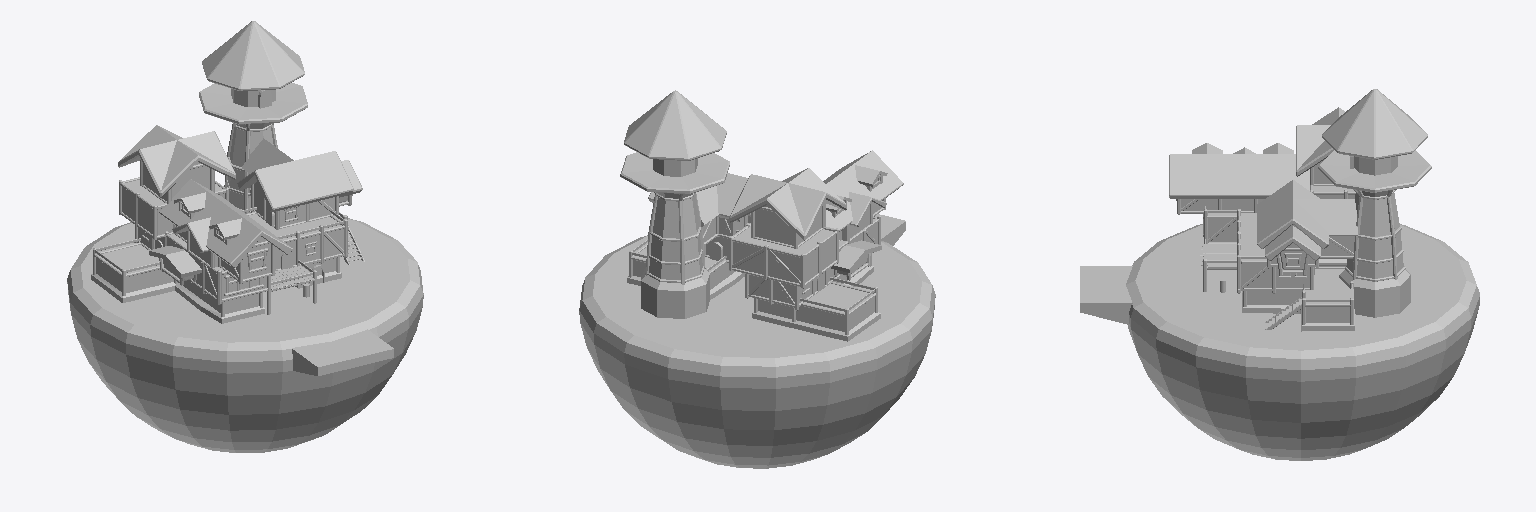
File: Building 3 Export.obj
The picture shows the model from 3 angles: view 1: azimuth 30°, elevation 25°; view 2: azimuth 150°, elevation 25°; view 3: azimuth 270°, elevation 25°; orthographic projection.
Visible parts, largest first — view 1: Island, polySurface1 pCube3, PointRoof, Silo, Roof1, Roof15, Roof9, Dock, pCube3 polySurface3 polySurface2, pCube3 polySurface2 polySurface4, pCube3 polySurface2 polySurface5, Roof6 (+2 smaller); view 2: Island, Silo, polySurface1 pCube3, PointRoof, Roof9, pCube3 polySurface2 polySurface4, Roof15, pCube3 polySurface3 polySurface2, pCube3 polySurface2 polySurface7, Roof1, Roof6, Roof8 (+1 smaller); view 3: Island, Silo, Roof15, PointRoof, polySurface1 pCube3, Roof1, Dock, pCube3 polySurface3 polySurface2, Roof8, Roof9, pCube3 polySurface2 polySurface4, Roof2 (+1 smaller).
Boxes of the visible parts, <box> form: Island: <box>67,216,423,452</box>; polySurface1 pCube3: <box>91,216,349,323</box>; PointRoof: <box>202,21,304,90</box>; Silo: <box>199,83,307,209</box>; Roof1: <box>237,151,353,211</box>; Roof15: <box>159,179,292,267</box>; Roof9: <box>118,125,235,197</box>; Dock: <box>292,329,393,375</box>; pCube3 polySurface3 polySurface2: <box>138,214,343,298</box>; pCube3 polySurface2 polySurface4: <box>122,180,270,278</box>; pCube3 polySurface2 polySurface5: <box>254,181,334,226</box>; Roof6: <box>149,246,201,277</box>; Island: <box>579,235,935,468</box>; Silo: <box>620,152,729,318</box>; polySurface1 pCube3: <box>627,247,880,341</box>; PointRoof: <box>624,90,726,160</box>; Roof9: <box>729,168,846,240</box>; pCube3 polySurface2 polySurface4: <box>733,206,880,282</box>; Roof15: <box>823,150,903,231</box>; pCube3 polySurface3 polySurface2: <box>706,219,877,303</box>; pCube3 polySurface2 polySurface7: <box>755,205,821,245</box>; Roof1: <box>716,173,747,221</box>; Roof6: <box>831,240,881,272</box>; Roof8: <box>696,186,718,226</box>; Island: <box>1126,224,1479,460</box>; Silo: <box>1318,150,1431,317</box>; Roof15: <box>1169,147,1309,198</box>; PointRoof: <box>1322,89,1427,159</box>; polySurface1 pCube3: <box>1242,259,1354,331</box>; Roof1: <box>1257,180,1328,248</box>; Dock: <box>1080,266,1132,324</box>; pCube3 polySurface3 polySurface2: <box>1208,213,1309,287</box>; Roof8: <box>1294,199,1357,235</box>; Roof9: <box>1296,107,1344,176</box>; pCube3 polySurface2 polySurface4: <box>1181,186,1354,210</box>; Roof2: <box>1265,226,1320,260</box>.
Bounding box in the file's own units: 36.1 × 41.87 × 40.33.